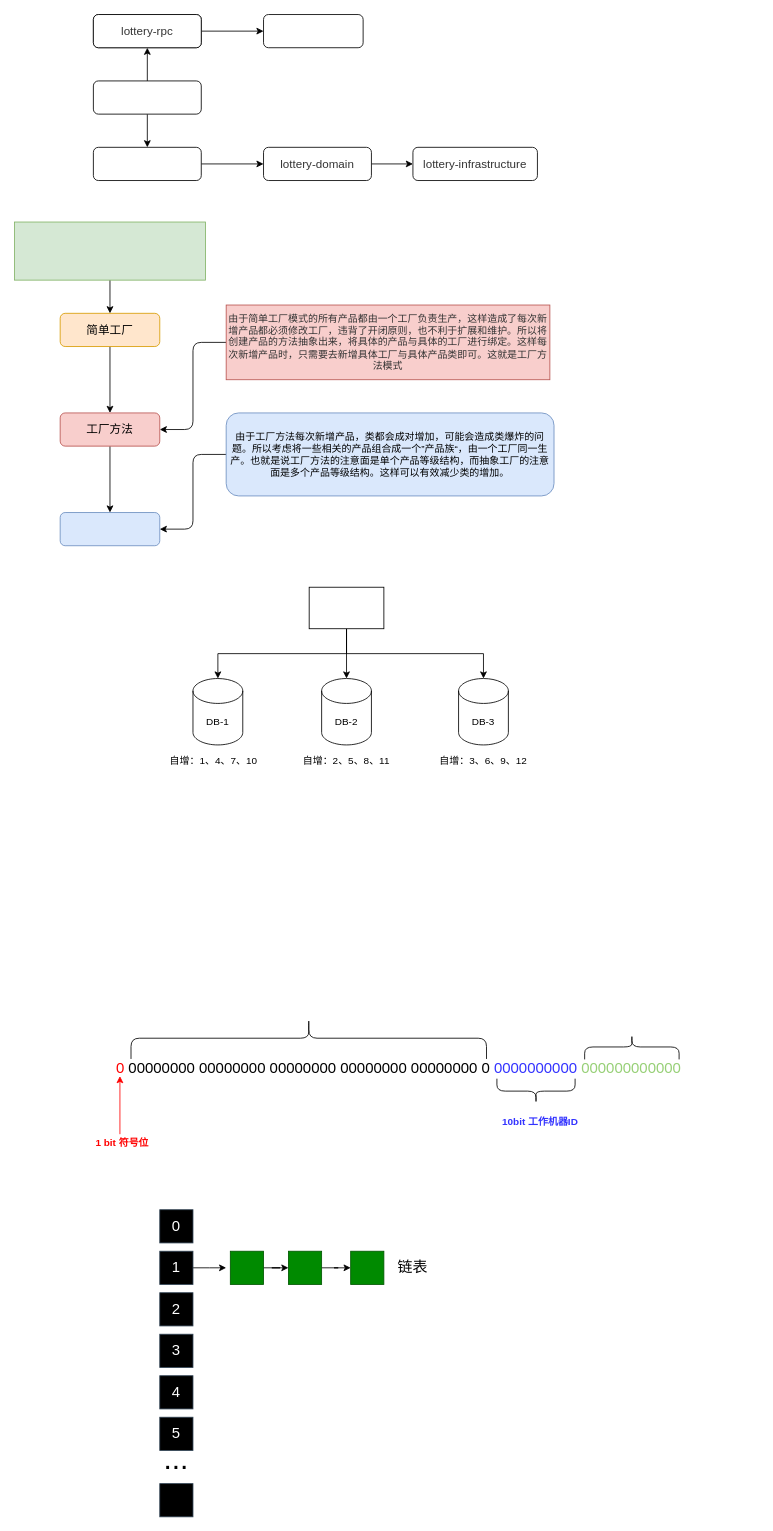
Some shapes in this 773 by 1531 pixel diagram are drawn without their labels. Each missing label, with the box of its shape:
12bit 序列号: (584, 1034, 679, 1059)
41 bit 时间戳: (130, 1017, 487, 1059)
lottery-application: (93, 146, 201, 181)
lottery-common: (263, 14, 363, 48)
lottery-interface: (93, 80, 201, 114)
创建对象与使用对象职责分离，减少客户端的复杂度，符合单一职责的设计原则。: (14, 221, 205, 280)
抽象工厂: (59, 512, 160, 546)
服务: (308, 586, 384, 629)
